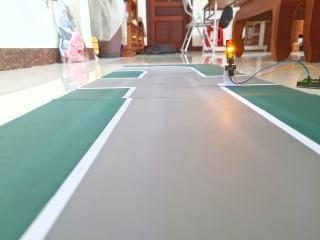yellow: (219, 35, 243, 65)
